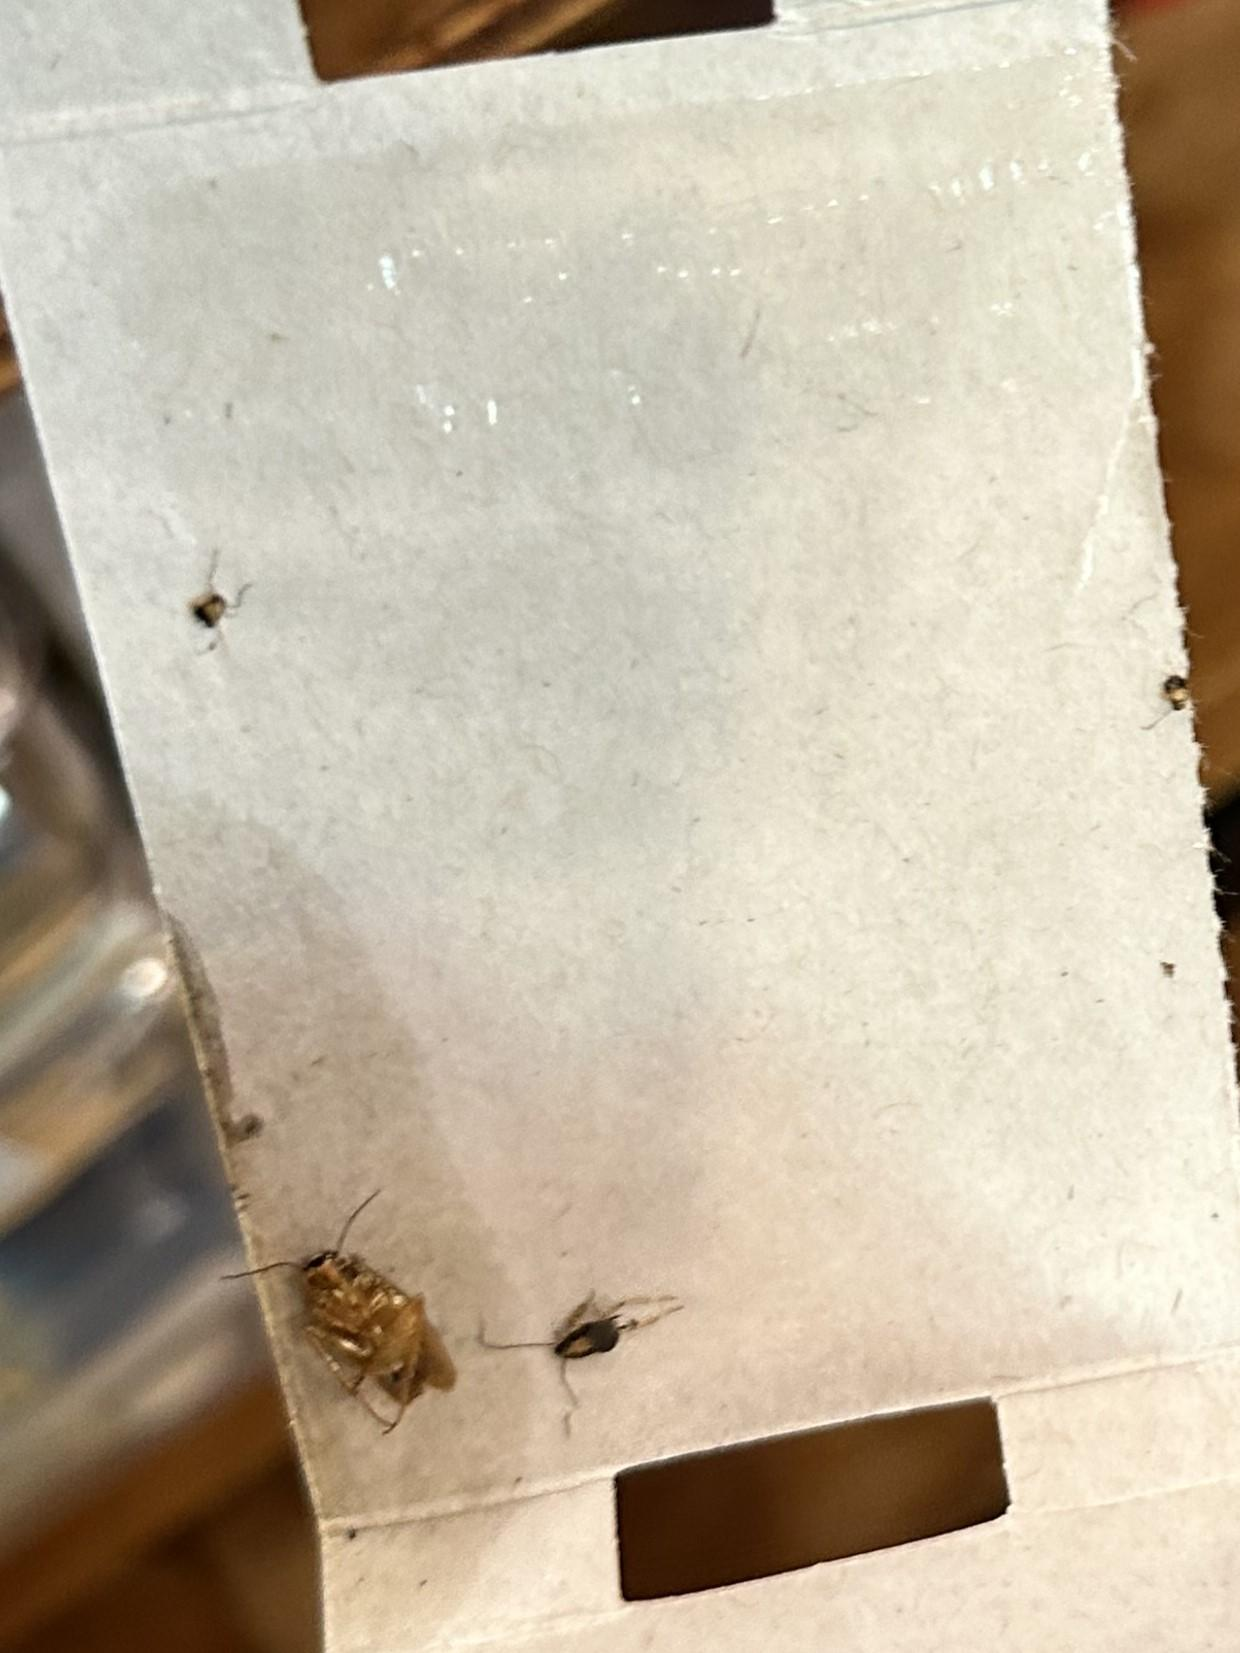cockroach: (440, 1210, 750, 1465), (216, 1181, 462, 1441)
